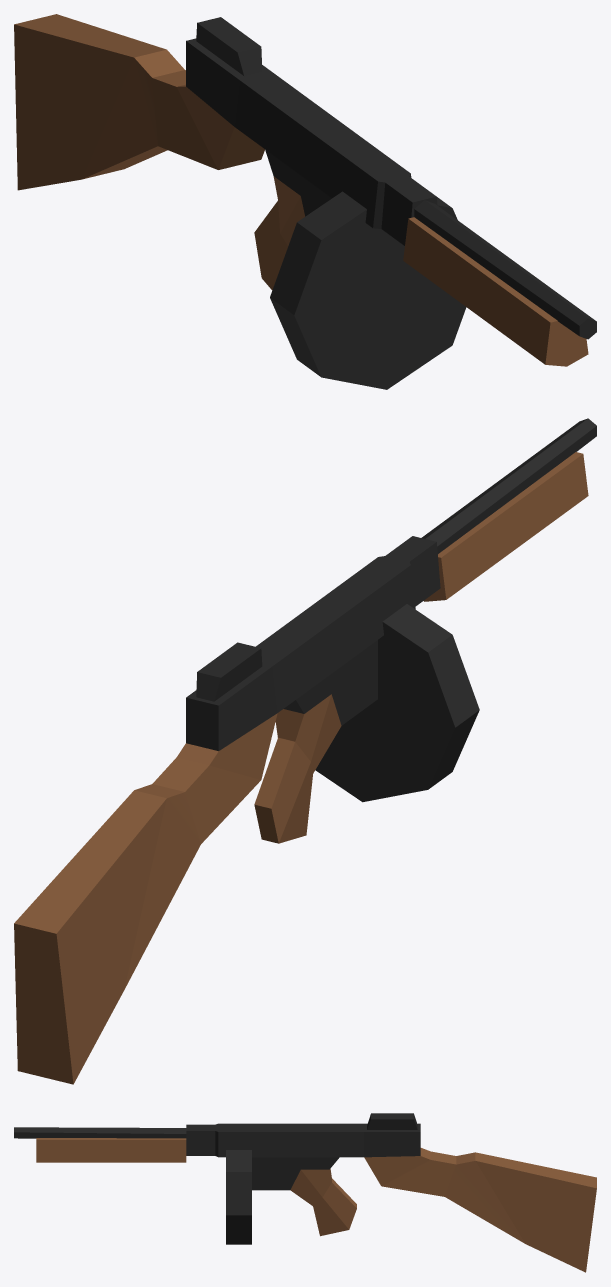
The model's file is weapons_thompson.fbx.
3 renders of one model, top to bottom at view 1: azimuth 30°, elevation 25°; view 2: azimuth 150°, elevation 25°; view 3: azimuth 270°, elevation 25°, orthographic. The views are drawn at different scales.
Visible parts, largest first — view 1: weapons_thompson; view 2: weapons_thompson; view 3: weapons_thompson.
Boxes of the visible parts, x1,y1,x2,y2 form: weapons_thompson: [14, 14, 596, 389]; weapons_thompson: [14, 418, 596, 1084]; weapons_thompson: [14, 1113, 596, 1272].
Bounding box in the file's own units: 38.74 × 56.54 × 200.
